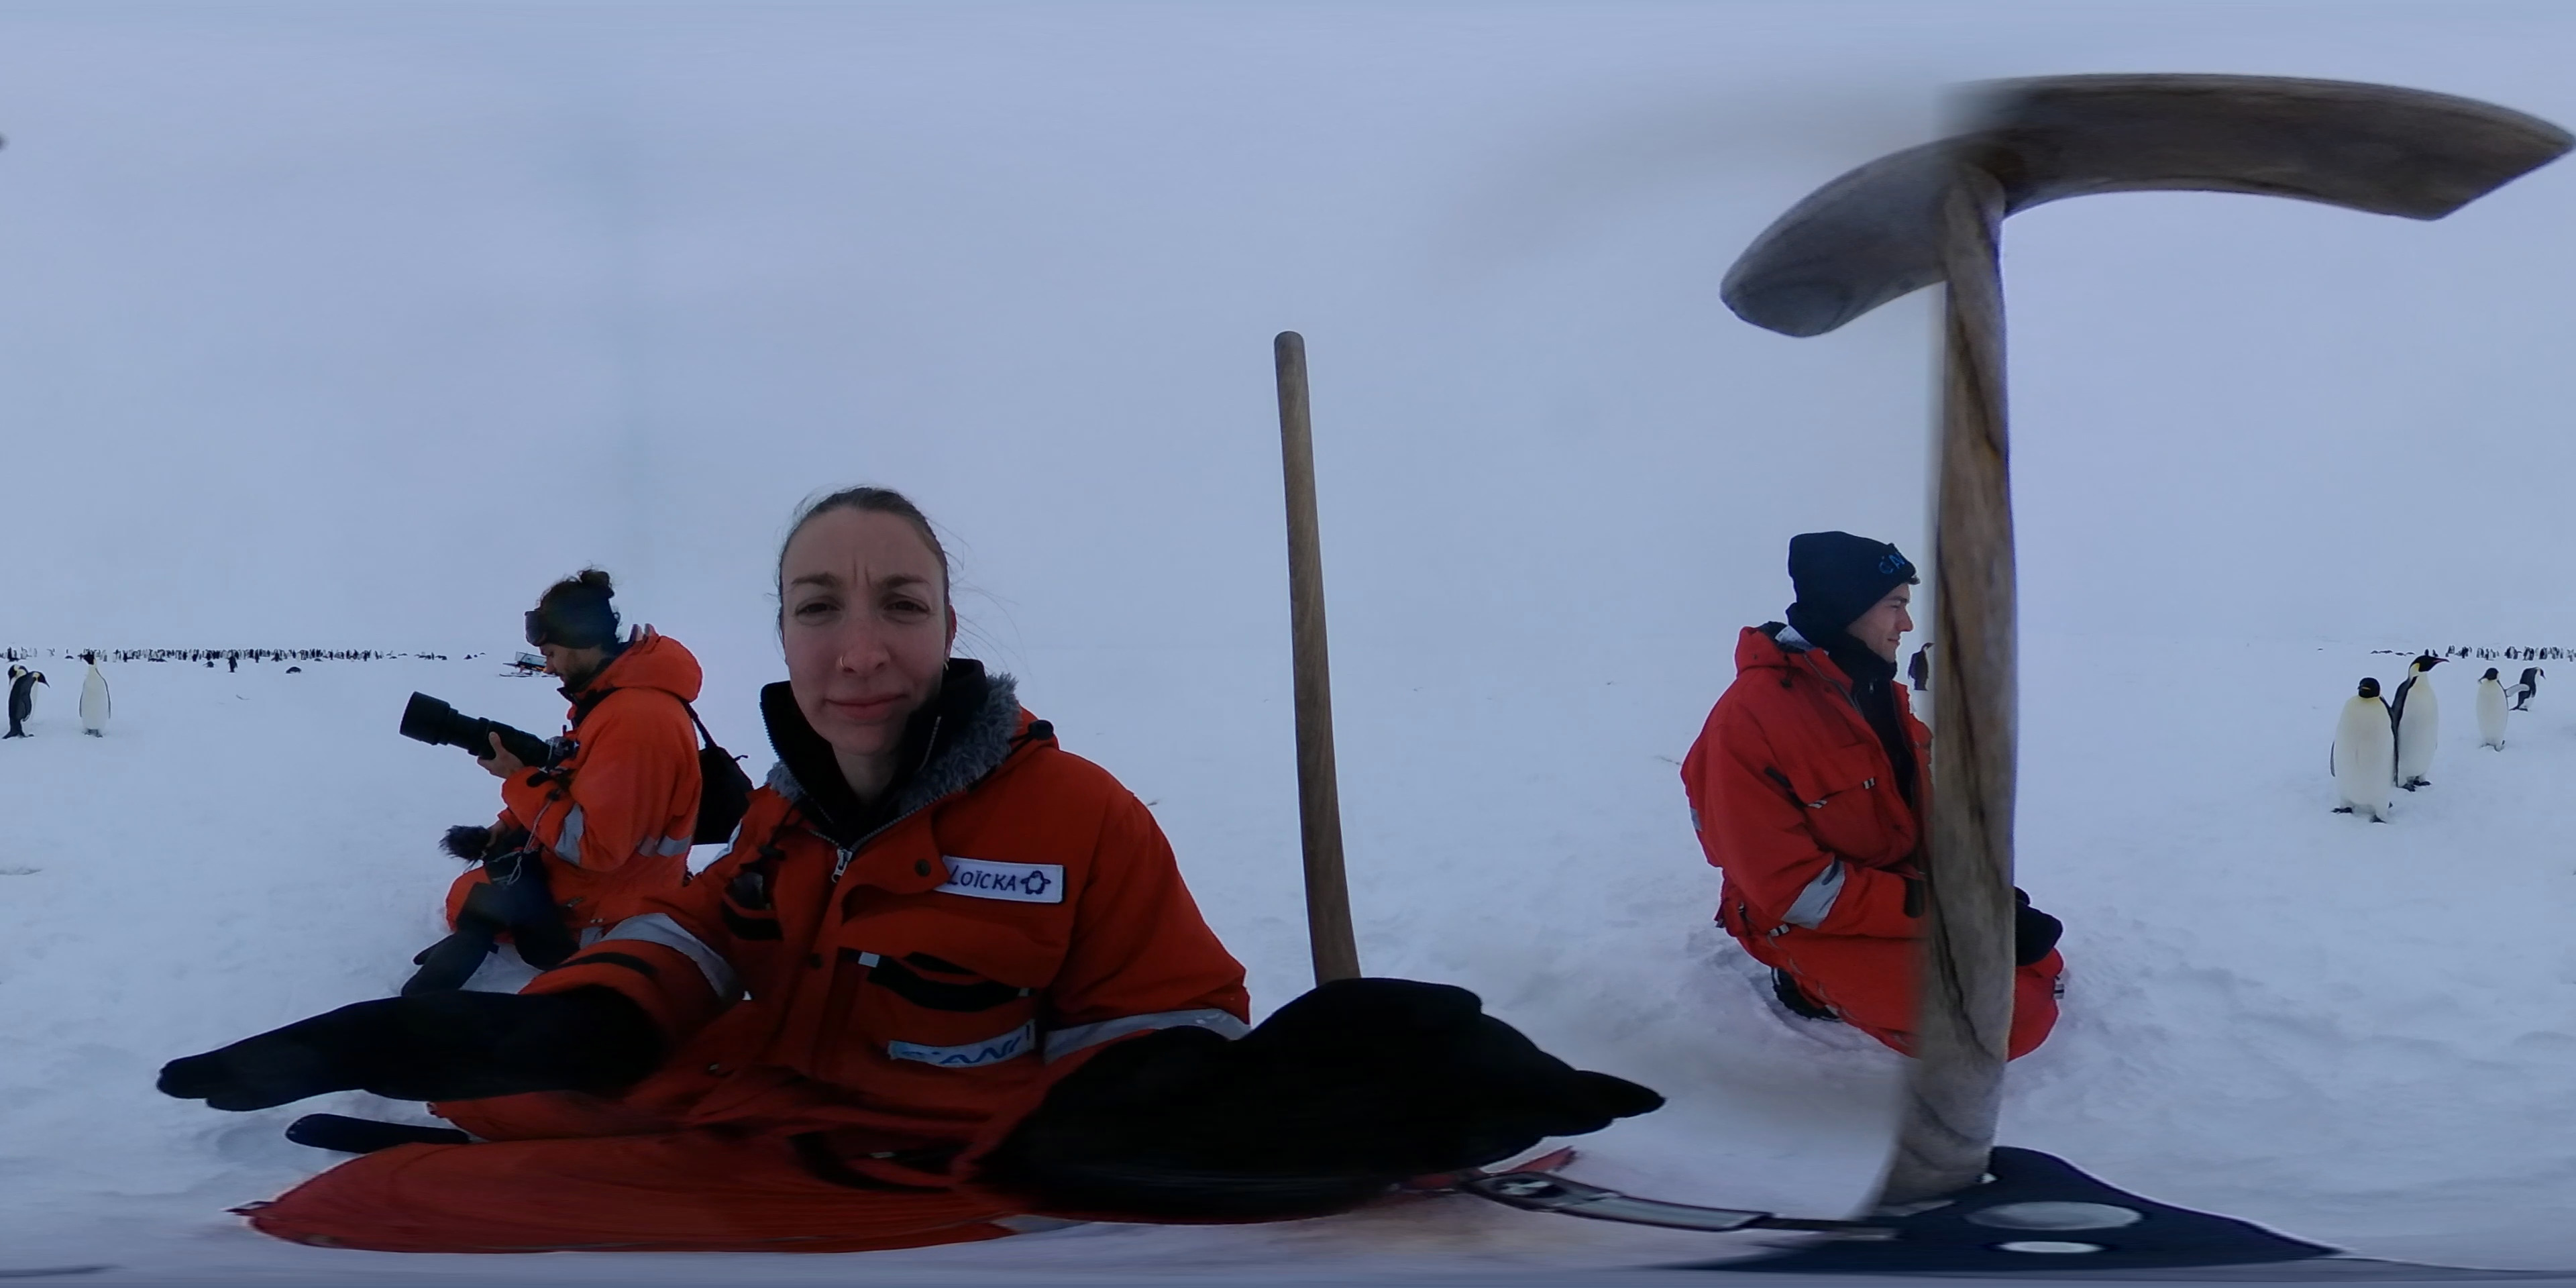adult_standing_penguin: (2326, 670, 2397, 826), (2394, 652, 2436, 795), (2471, 662, 2512, 754), (76, 651, 112, 739), (7, 669, 49, 741), (1902, 637, 1942, 698), (2514, 662, 2540, 715)
researcher: (585, 476, 1278, 1094), (1661, 521, 2088, 1068), (447, 567, 713, 956)
